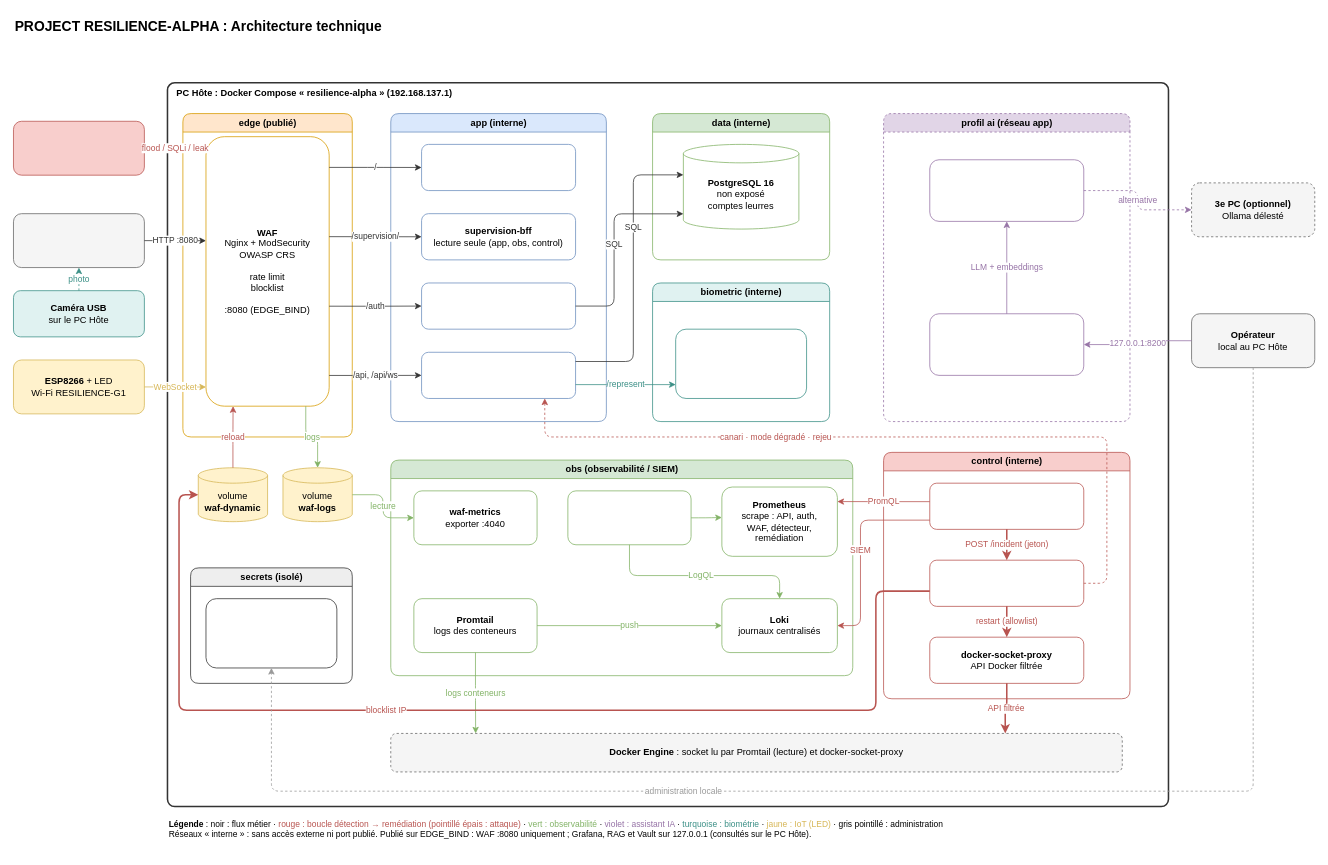
Image size: 1328x865. Some labels were removed from this diagram. Here are the shapes that lost their labels. From the top down, the centre of each, then its label:
(78,148): PC Attaquant 192.168.137.0/24 attack/*.py
(498,167): frontend React / Tailwind
(1006,190): ollama Qwen3 4B · nomic-embed GPU si dispo
(78,240): Utilisateur / Jury navigateur
(498,305): auth FastAPI · JWT HS256
(741,363): face-api DeepFace 0.0.102 (ONNX) Facenet512 · YuNet · FasNet
(1006,344): rag-assistant LangChain · BM25 + FAISS docs + rapports (lecture)
(498,375): payment-api virements · canari · WebSocket
(629,517): Grafana 127.0.0.1:3000 local au PC Hôte
(1006,505): ml-detector IsolationForest · SIEM · leurres
(1006,582): remediation-engine playbooks · garde-fous · rapports
(271,633): Vault 2.1.2 · KV v2 127.0.0.1:8201 .env rendu au déploiement
